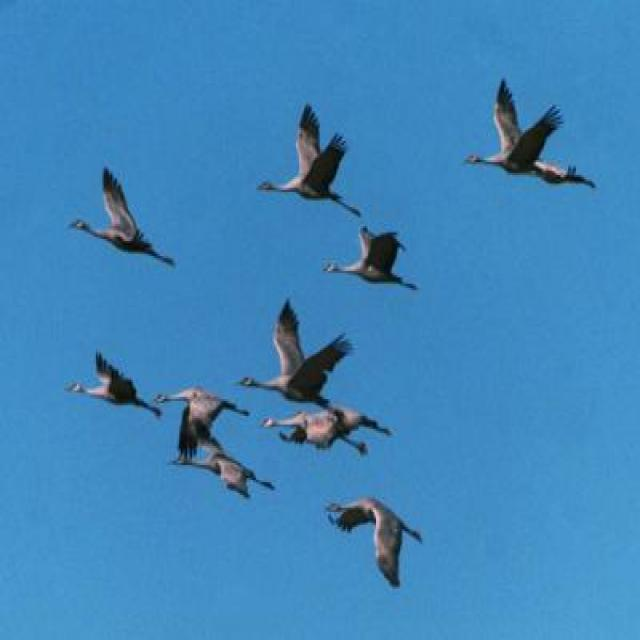birds: (458, 75, 606, 198), (232, 294, 365, 414), (64, 154, 181, 271), (250, 104, 366, 221), (322, 489, 426, 590), (312, 220, 424, 296), (256, 404, 396, 461), (153, 387, 254, 457), (66, 350, 167, 419), (170, 450, 278, 511)
